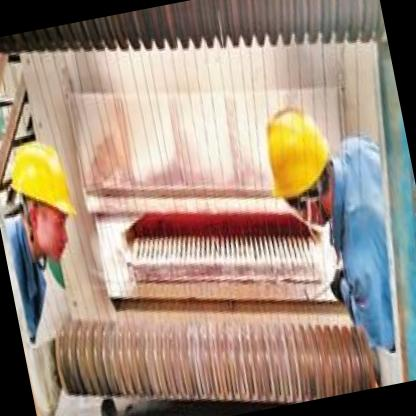helmet: (244, 89, 343, 236), (1, 126, 92, 274)
